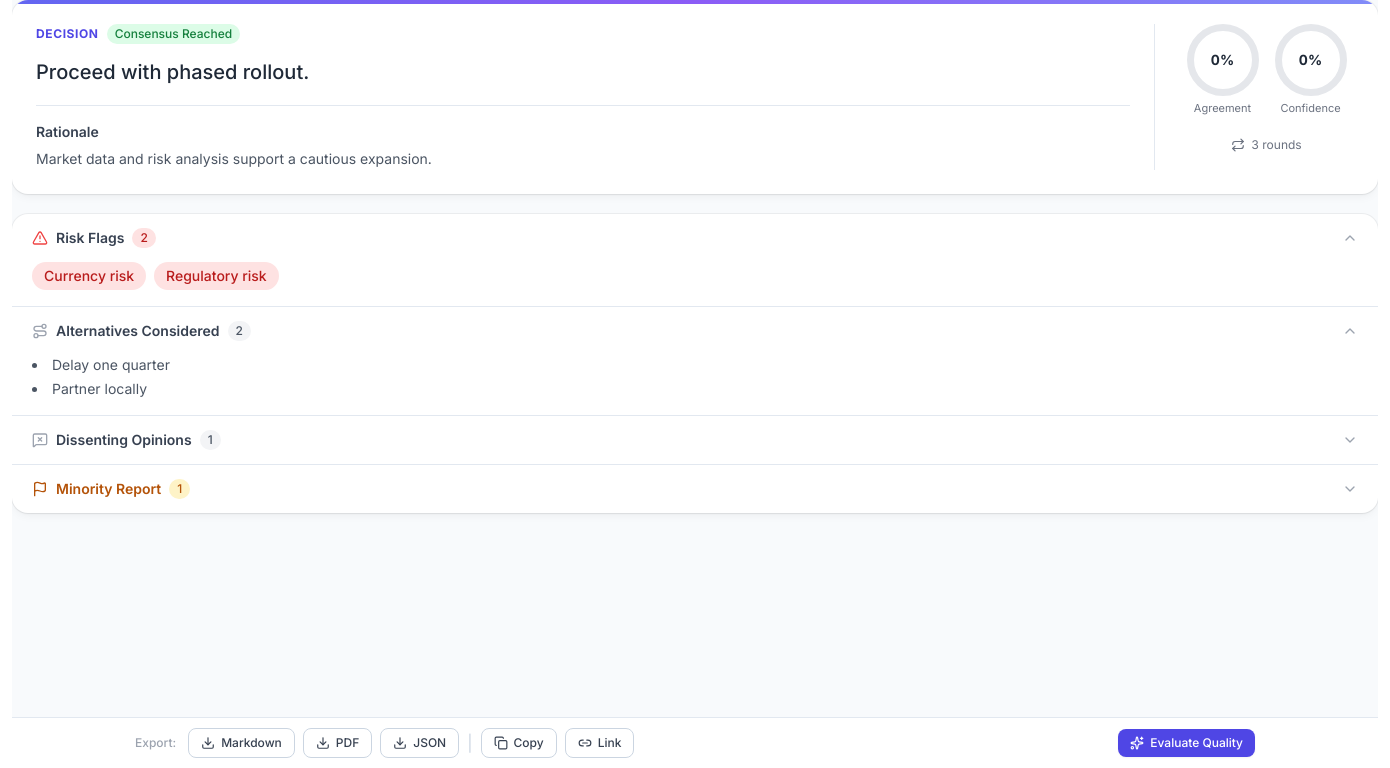
it: FinalDecisionPanel › expands minority report on click
Click the text "Minority Report" at {"x": 97, "y": 489}, box [32, 479, 161, 499]
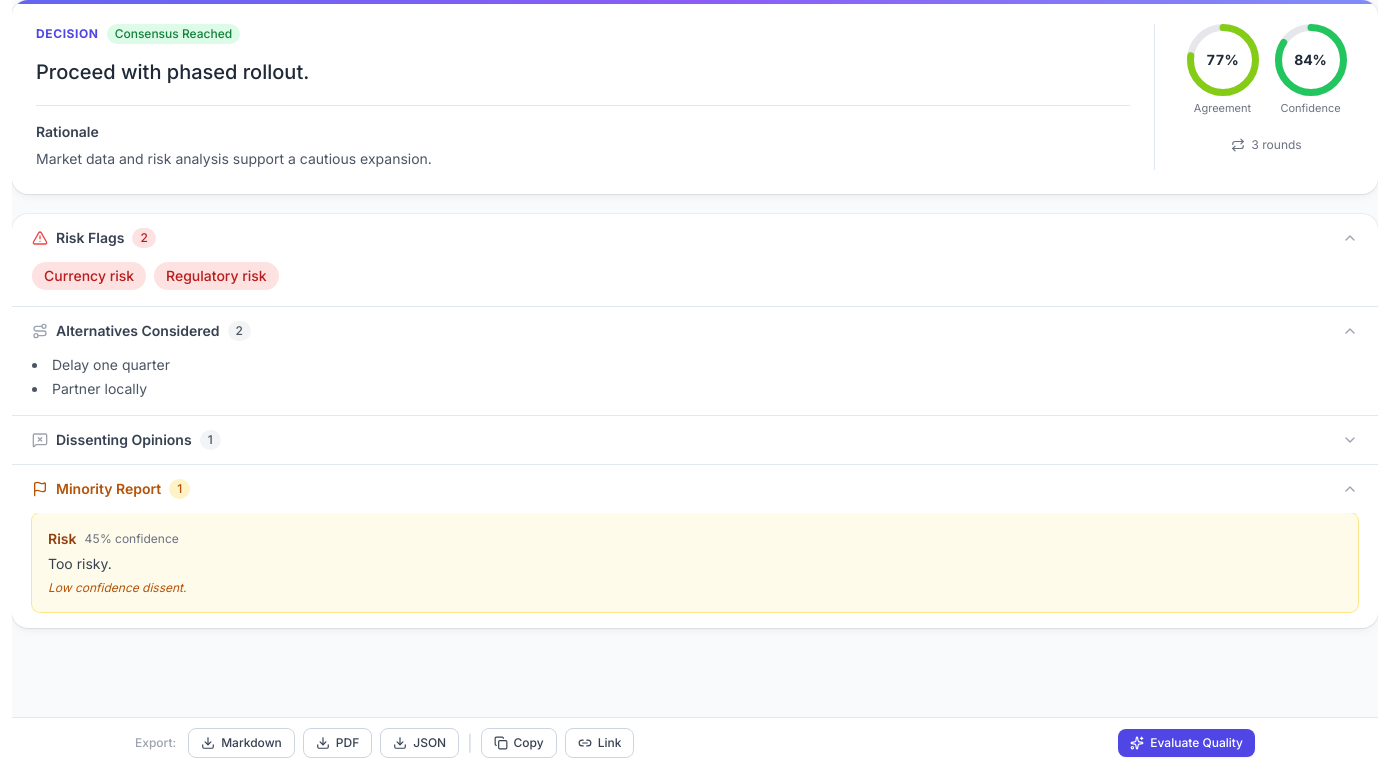
Result: the text "Too risky." is shown at [48, 555, 112, 572]
